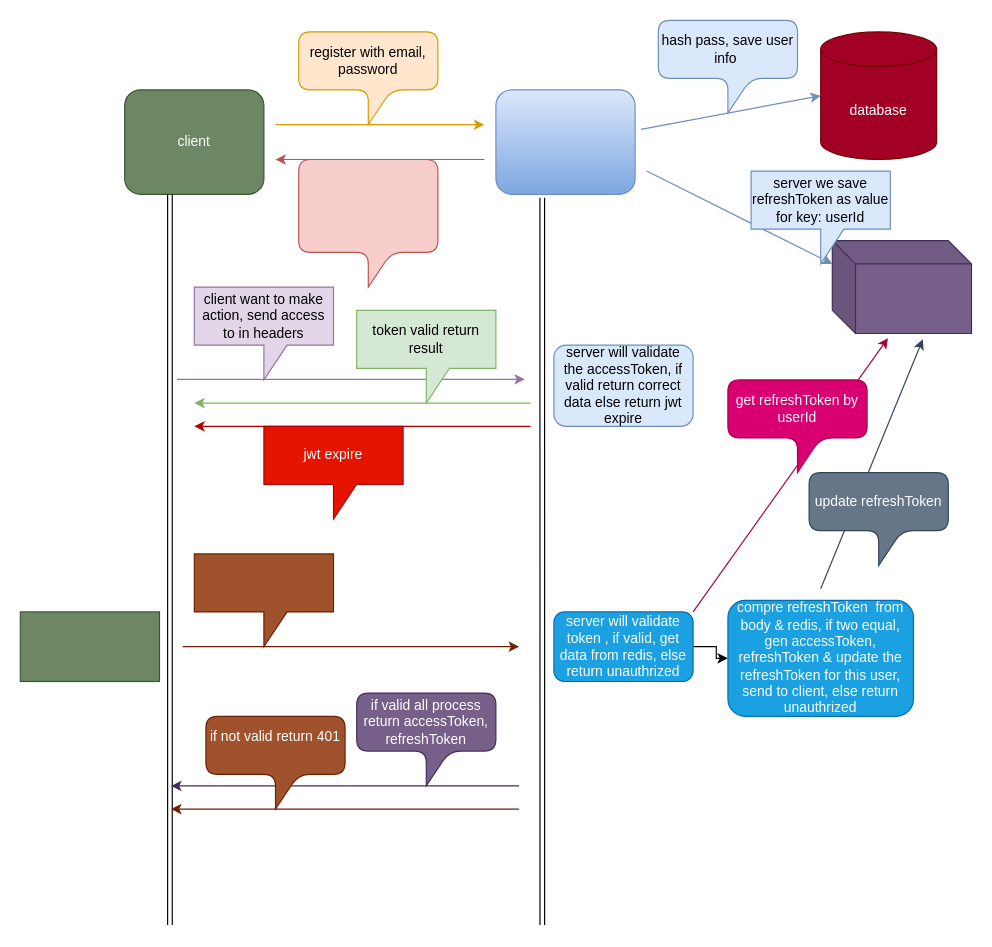
Image size: 992x947. Some labels were removed from this diagram. Each missing label, with the box of its shape:
redis: (831, 240, 971, 334)
return accessToken valid for 30m, refreshToken valid for 1 week: (298, 158, 438, 287)
send refreshToken in body: (193, 553, 334, 647)
server: (495, 89, 635, 194)
when server return jwt expire, client will use refreshtoken to get new pairs: (19, 611, 160, 682)
